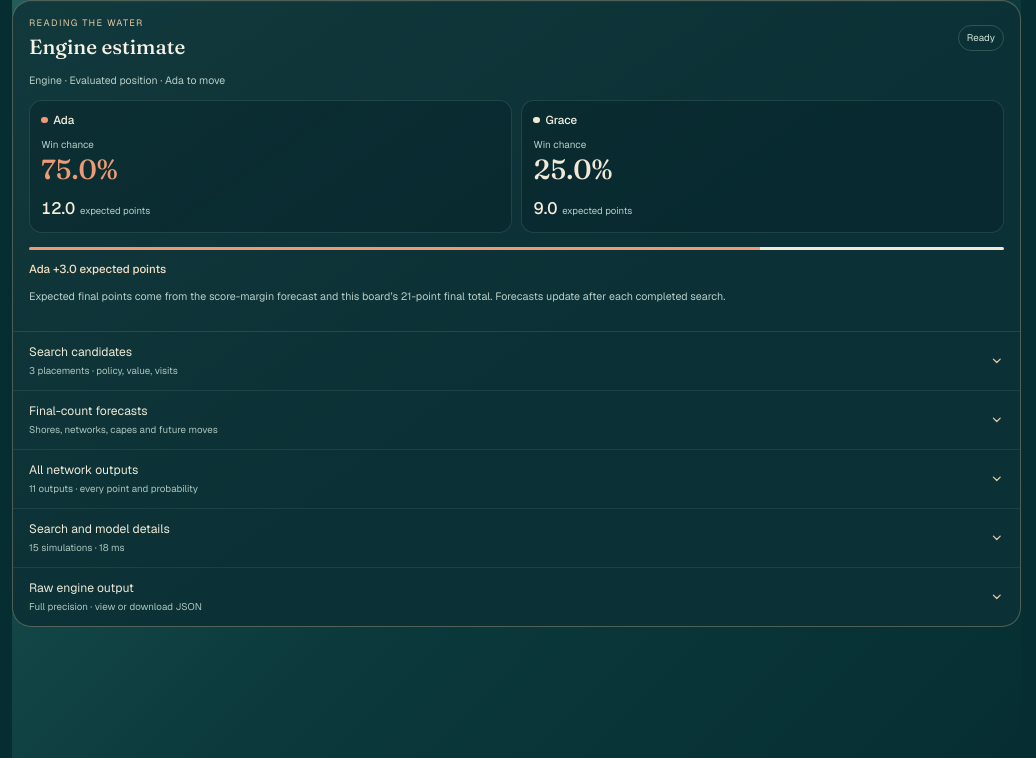
Test: EngineEstimatePanel › keeps auxiliary count-derived points distinct from the headline score forecast
The width and height of the screenshot is (1036, 758).
Click the button "Final-count forecasts": (88, 411) [13,391,1020,449]
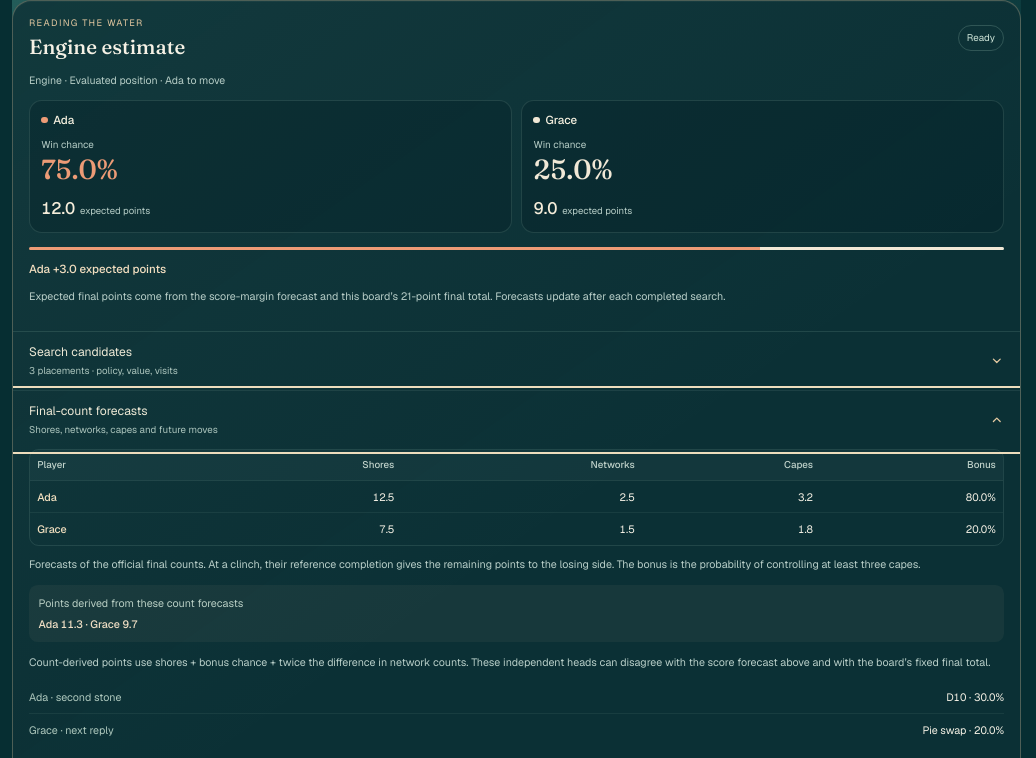
Expected: the text "Ada 11.3 · Grace 9.7" is shown, [39,617,138,631]
Expected: the text "independent heads can disagree" is shown, [29,654,990,668]
Expected: the text "Grace · next reply" is shown, [29,722,114,738]
